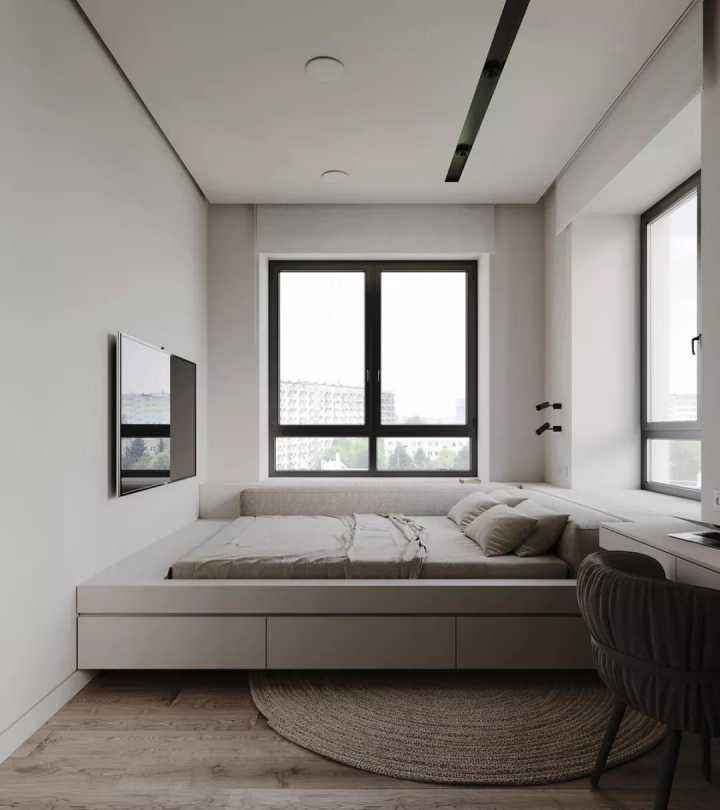床: (81, 509, 579, 682)
枕头: (450, 482, 568, 558)
灯: (300, 50, 349, 80), (315, 163, 351, 184)
